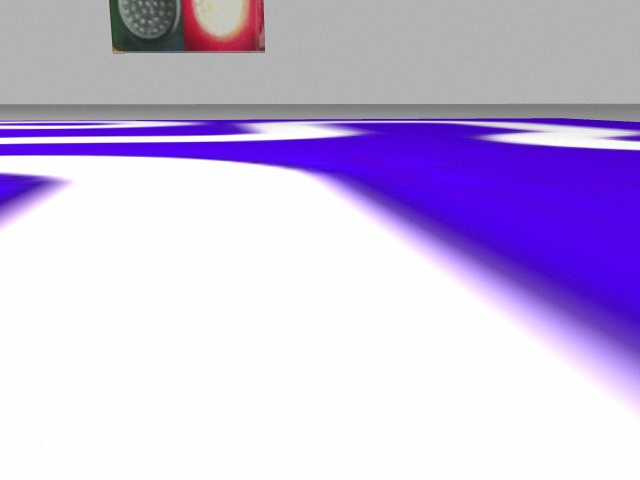red: (183, 1, 265, 55)
